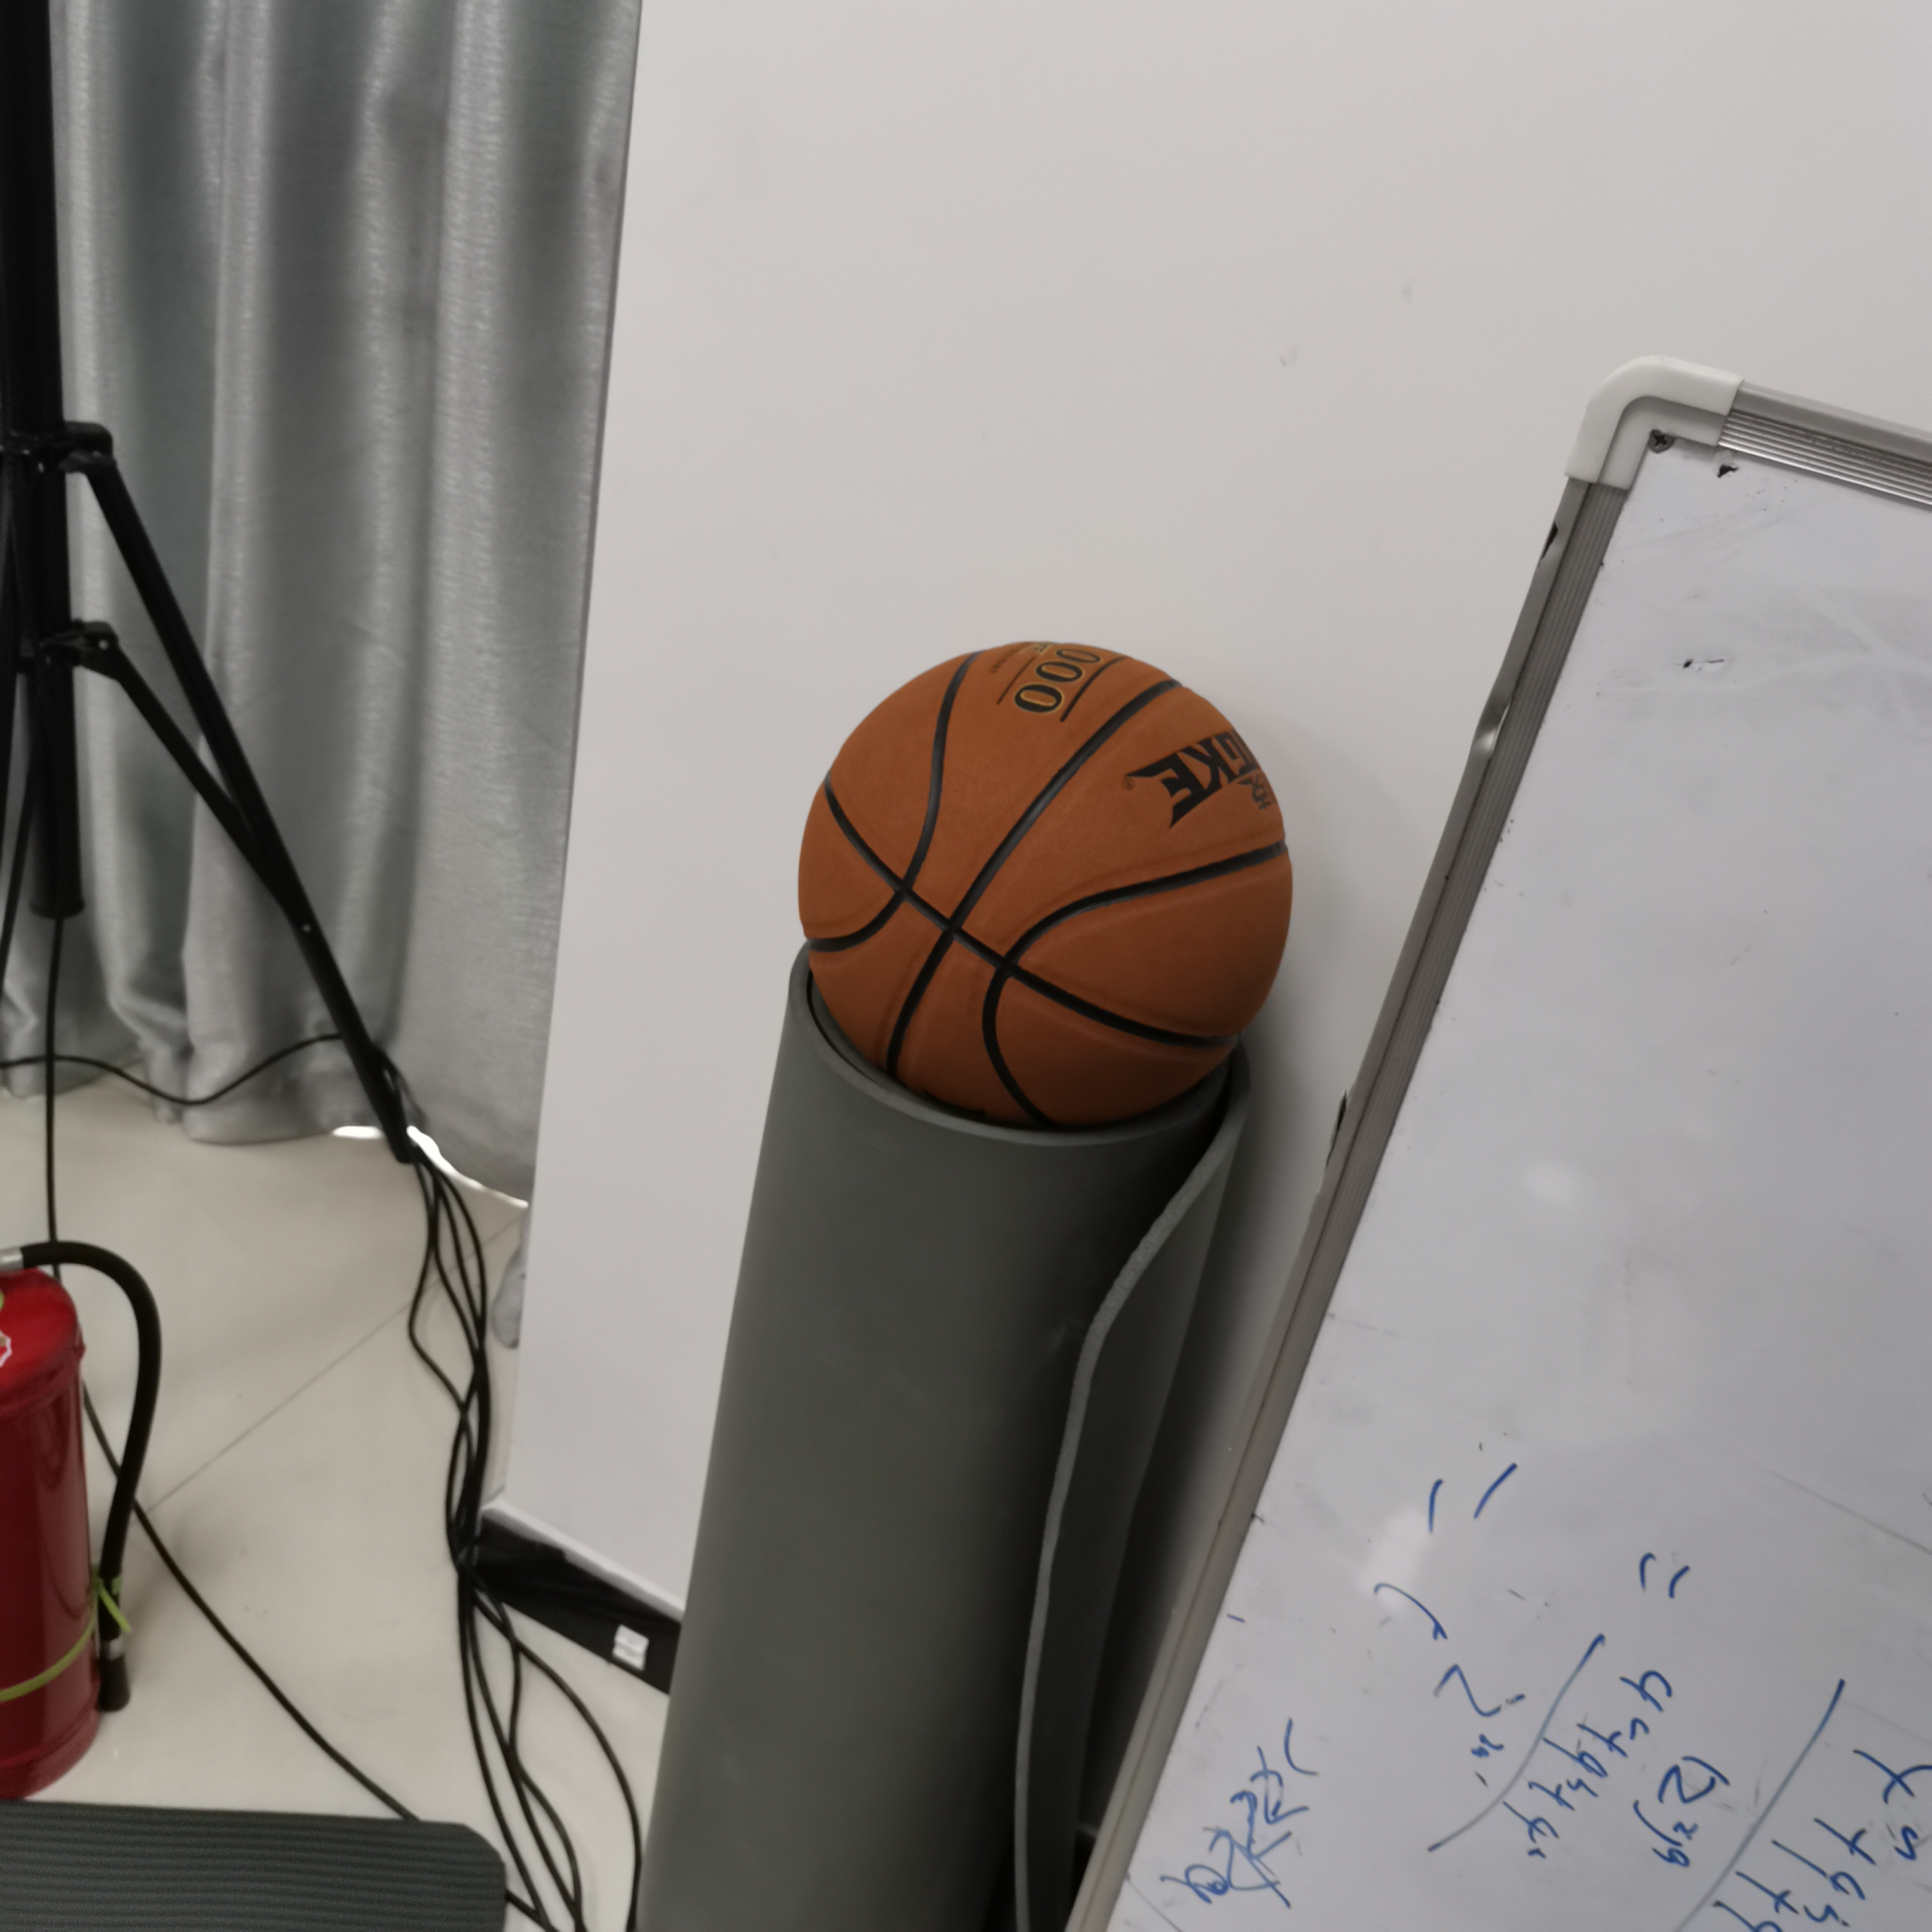basketball: (798, 644, 1299, 1131)
